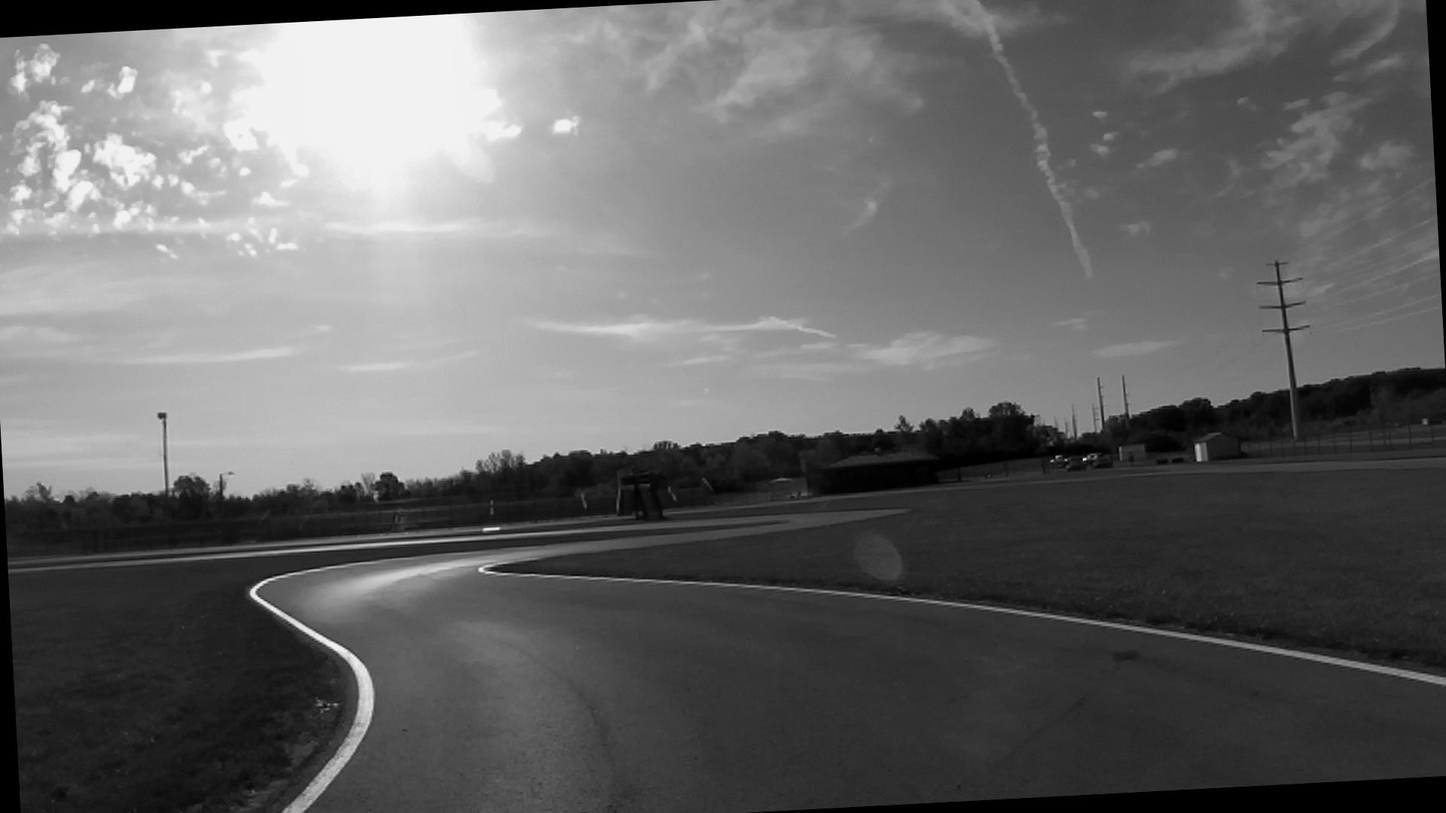white-line: (480, 564, 1446, 686), (249, 573, 373, 813)
